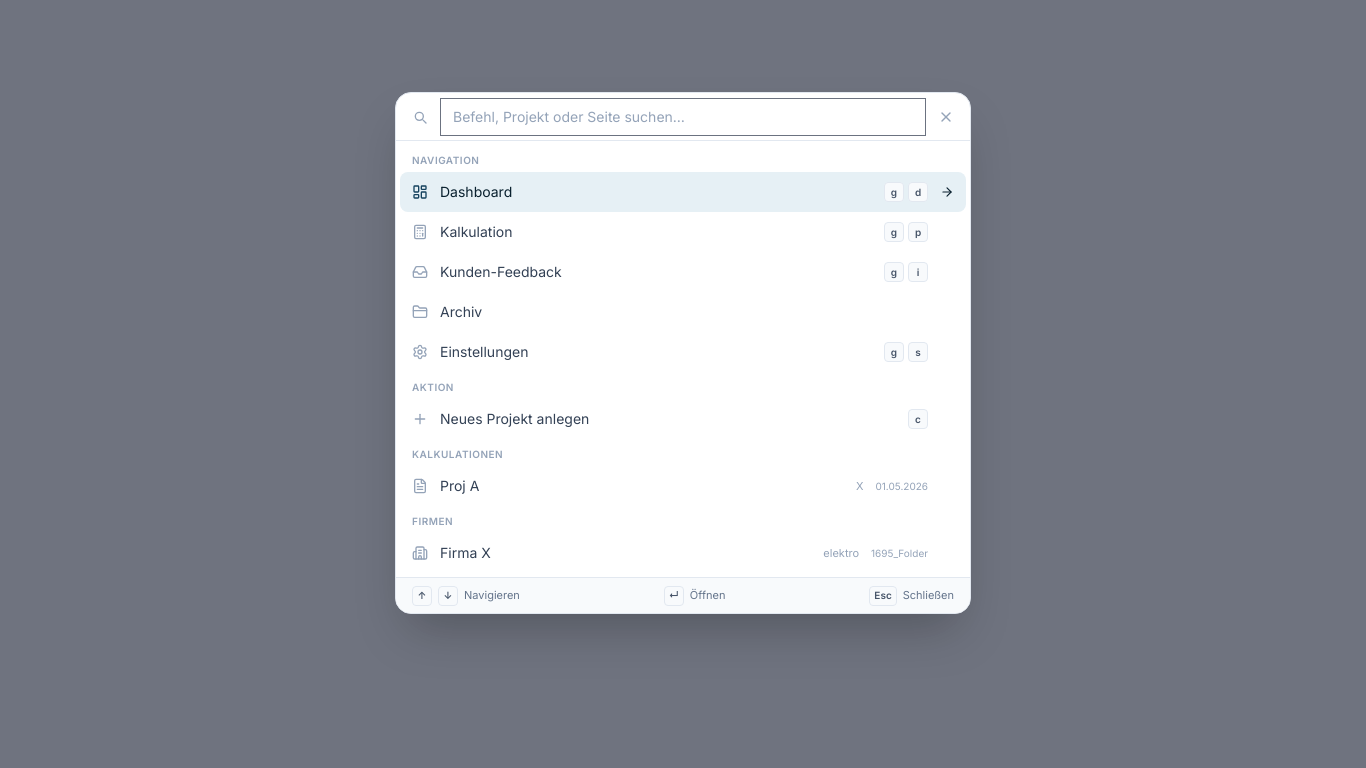
it: CommandPalette edges — backspace to empty query › typing then backspacing to "" restores Navigation + Aktion + all loaded groups
Check: the text "Proj A" is shown, box [440, 477, 479, 494]
# Type — filters everything out except Proj A
Type "proj" into the field with placeholder "Befehl, Projekt oder Seite suchen…" at (683, 117), box [440, 98, 926, 136]
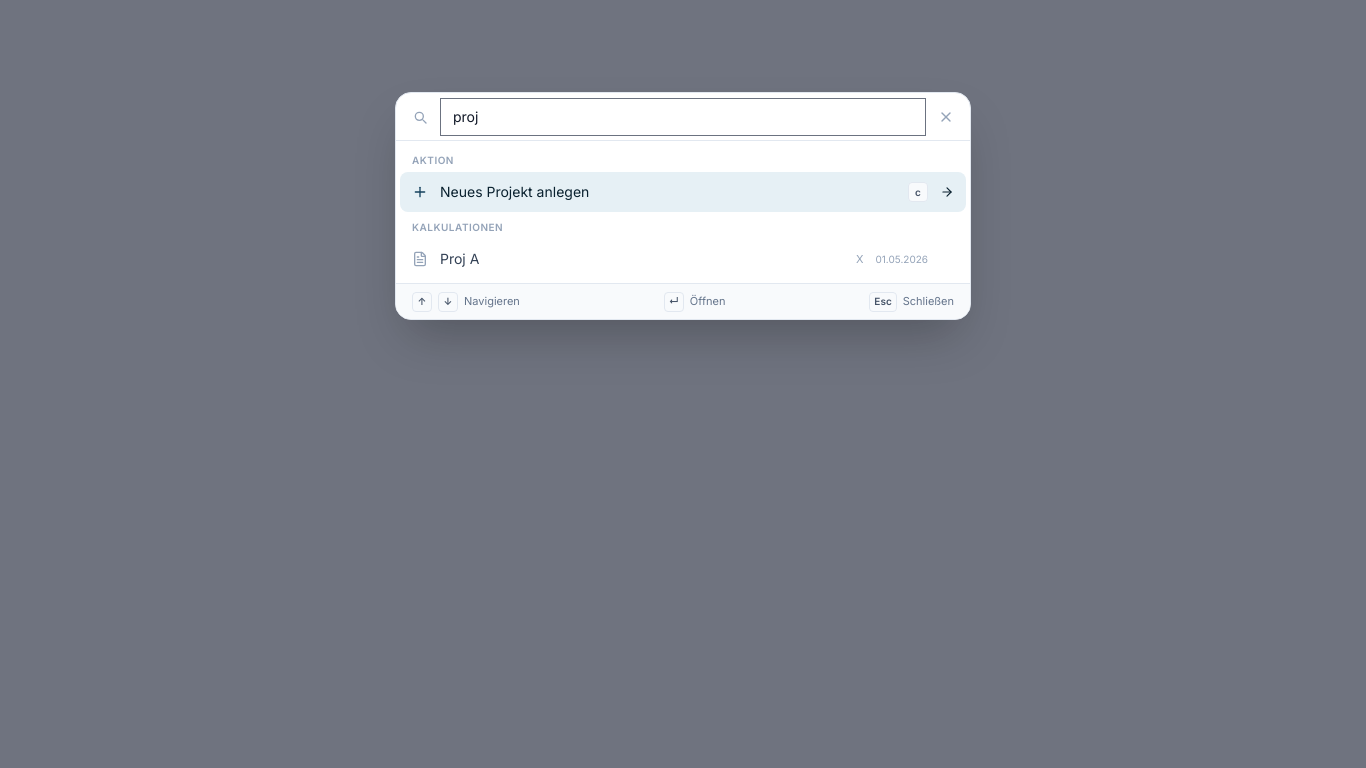
Check: the text "Proj A" is shown, box [440, 250, 479, 267]
Check: the button "Dashboard" is gone
Check: the button "Firma X" is gone
# Backspace all the way to ''
Clear the field with placeholder "Befehl, Projekt oder Seite suchen…" at (683, 117), box [440, 98, 926, 136]
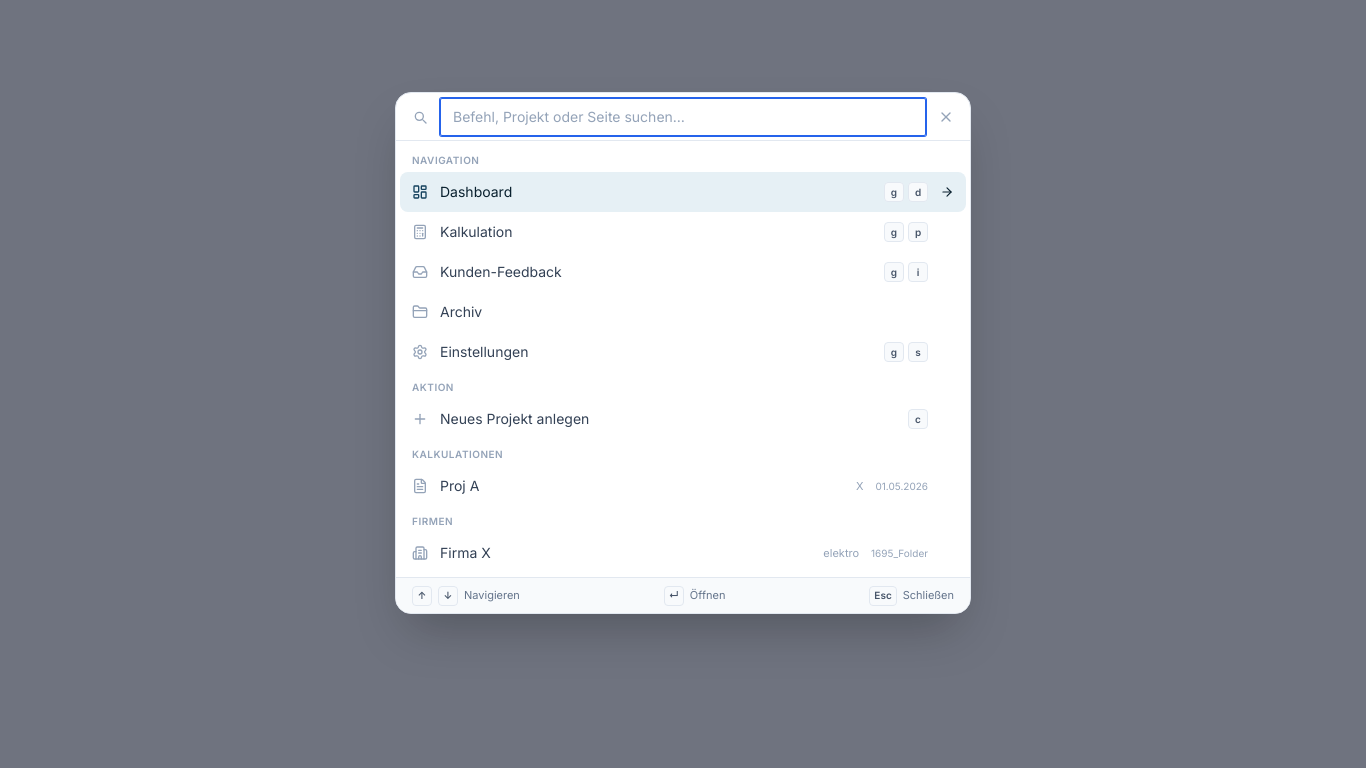
Check: the text "Neues Projekt anlegen" is shown, box [440, 410, 589, 427]
Check: the text "Dashboard" is shown, box [440, 183, 512, 200]
Check: the text "Firma X" is shown, box [440, 544, 491, 561]
